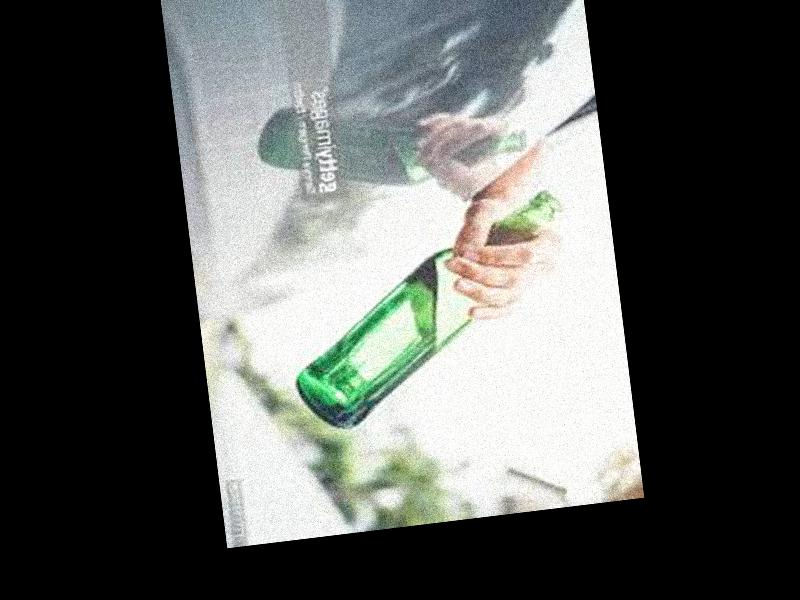Beer: (274, 185, 583, 432)
